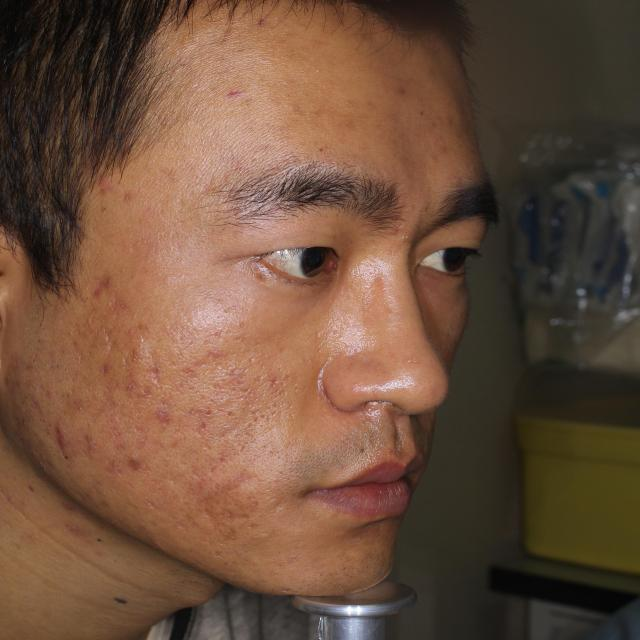acne: (48, 437, 81, 472), (144, 398, 179, 431), (108, 451, 150, 478), (186, 472, 226, 499), (82, 274, 120, 301), (61, 518, 91, 542)
